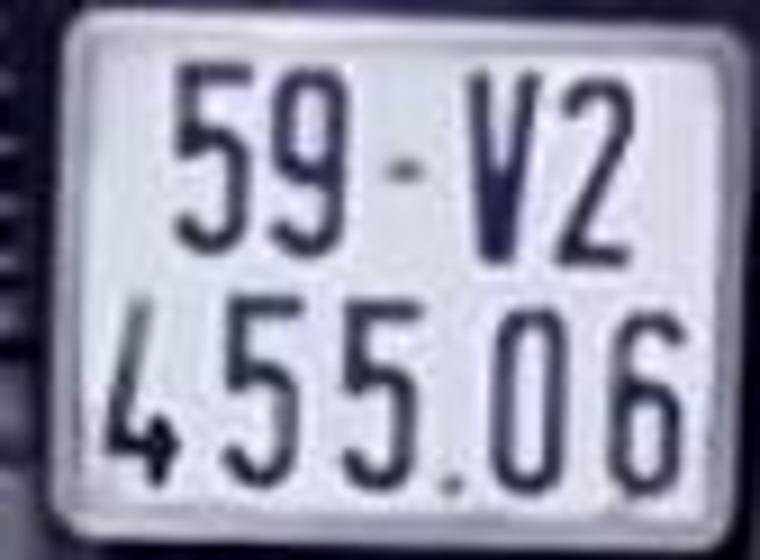-: (377, 149, 444, 192)
.: (429, 465, 474, 506)
0: (488, 298, 566, 499)
2: (557, 67, 642, 277)
4: (106, 290, 189, 491)
5: (221, 290, 310, 491), (339, 290, 424, 492), (167, 57, 254, 251)
6: (606, 305, 693, 495)
9: (270, 65, 351, 261)
V: (459, 66, 541, 271)
